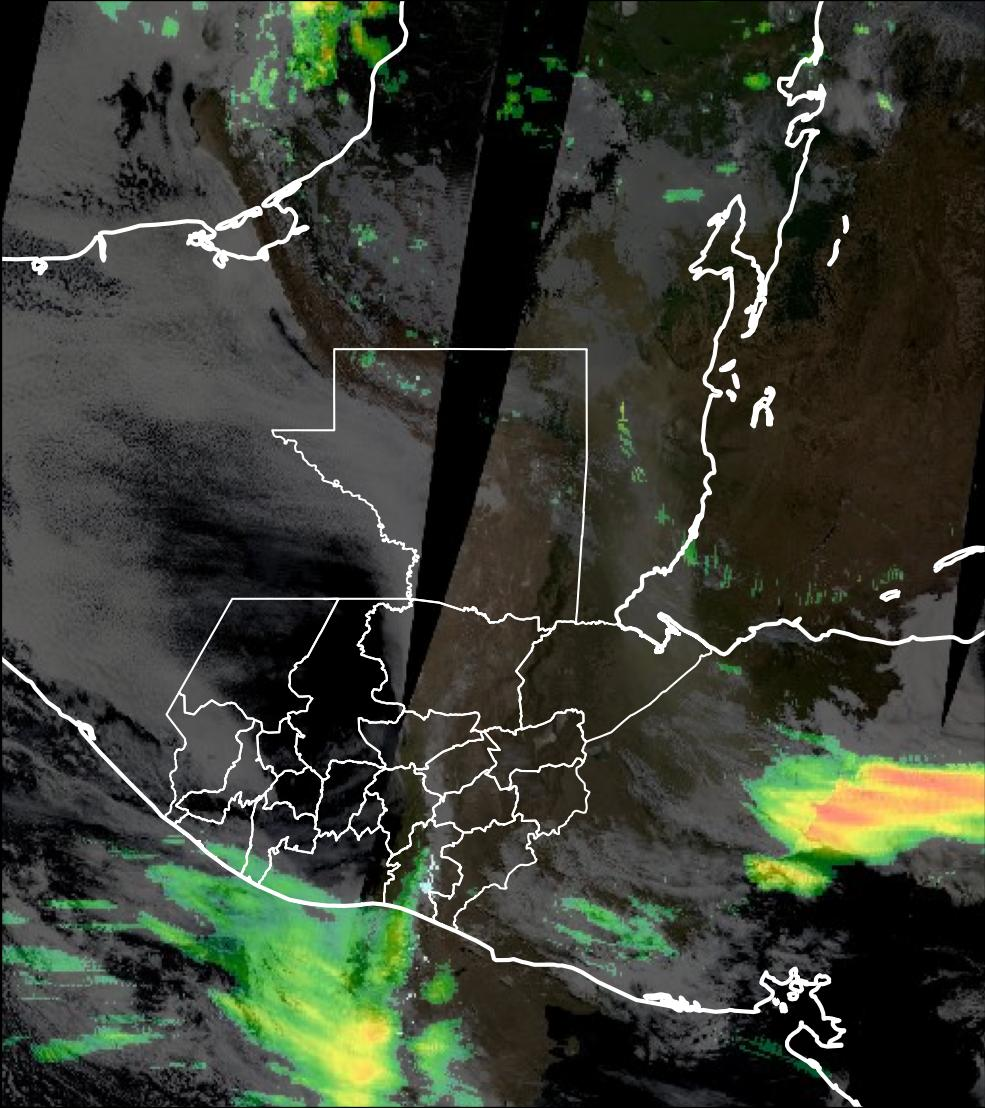precipitacion: (791, 747, 985, 860)
